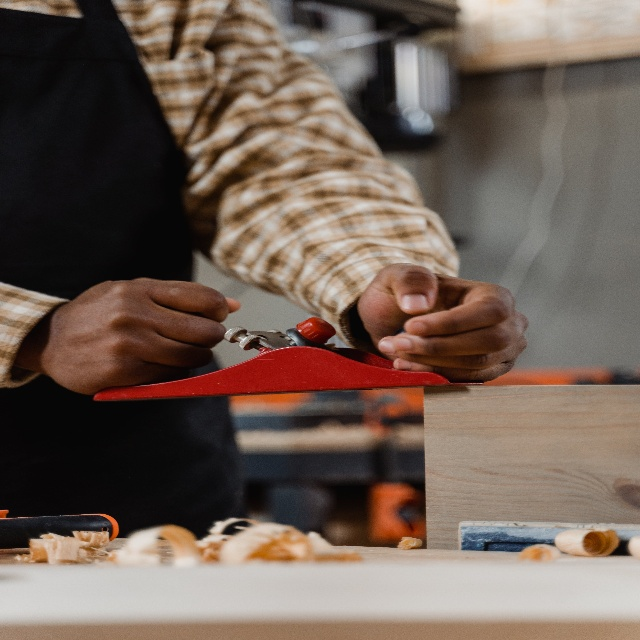Sin_guantes: (359, 271, 527, 382), (52, 289, 245, 384)
